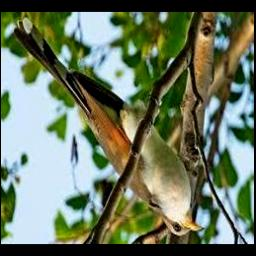Cuckoo: (13, 20, 204, 236)
